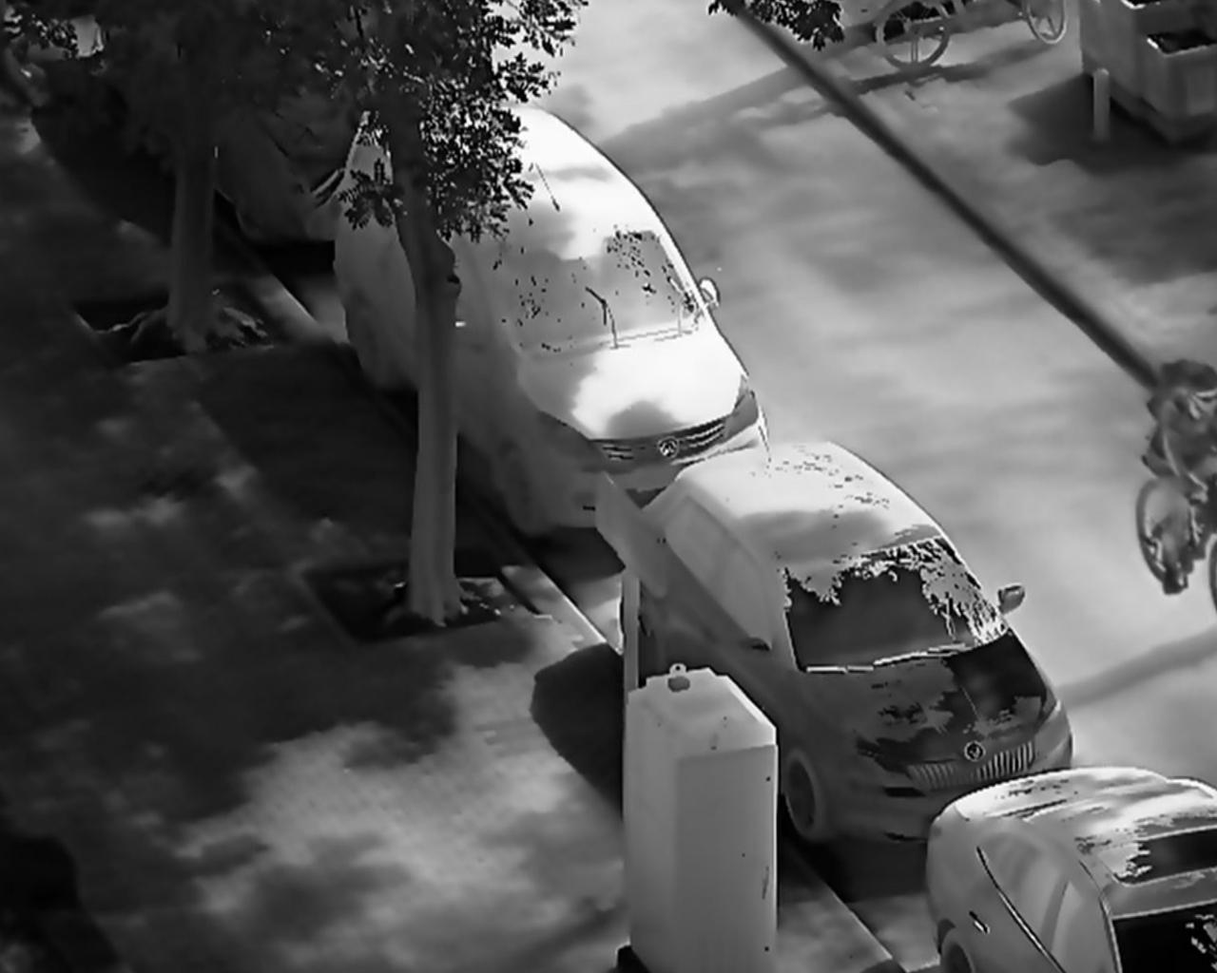person: (1142, 359, 1217, 597)
